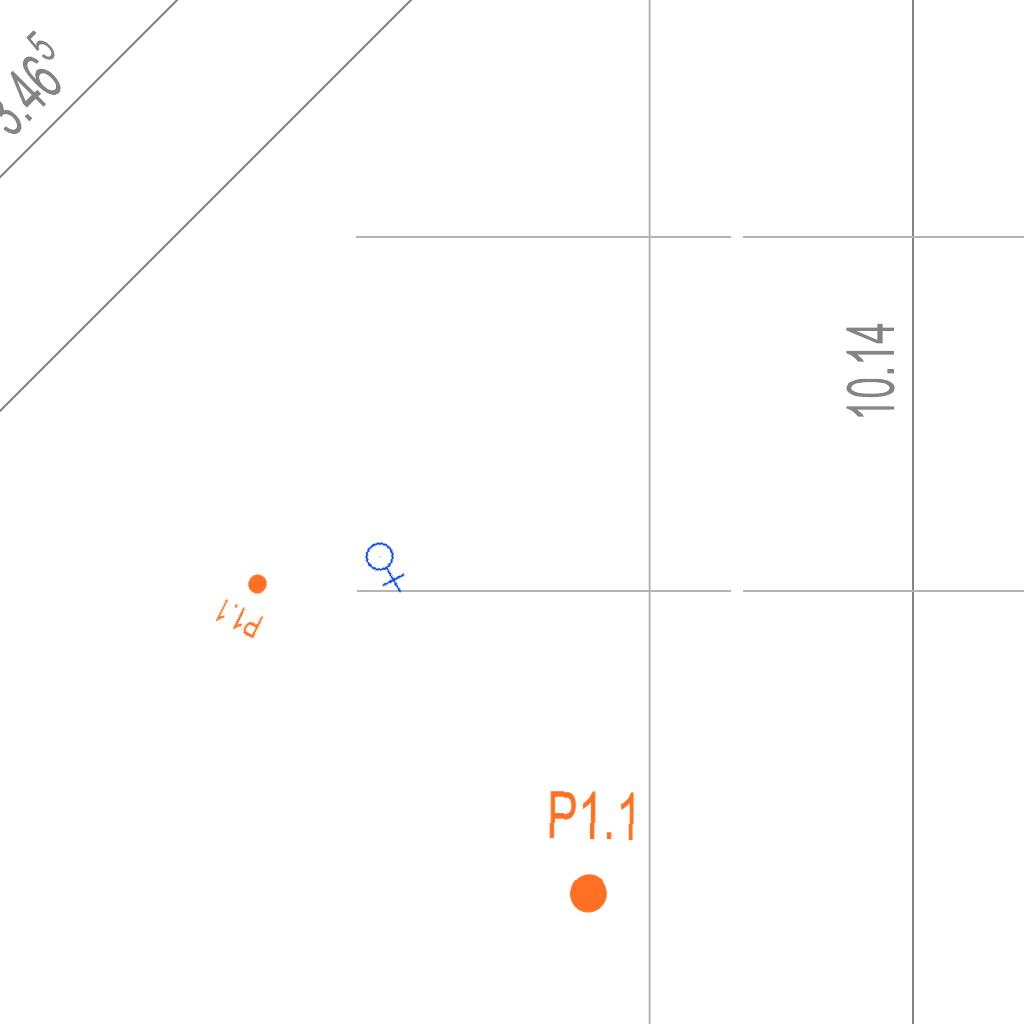Downlight_LED_Einbauleuchten_Flur: (544, 787, 641, 917), (212, 563, 282, 641)
Elektroanschluss_allgemein_230V_Geraeteanschlussdose_230V: (357, 535, 416, 594)
